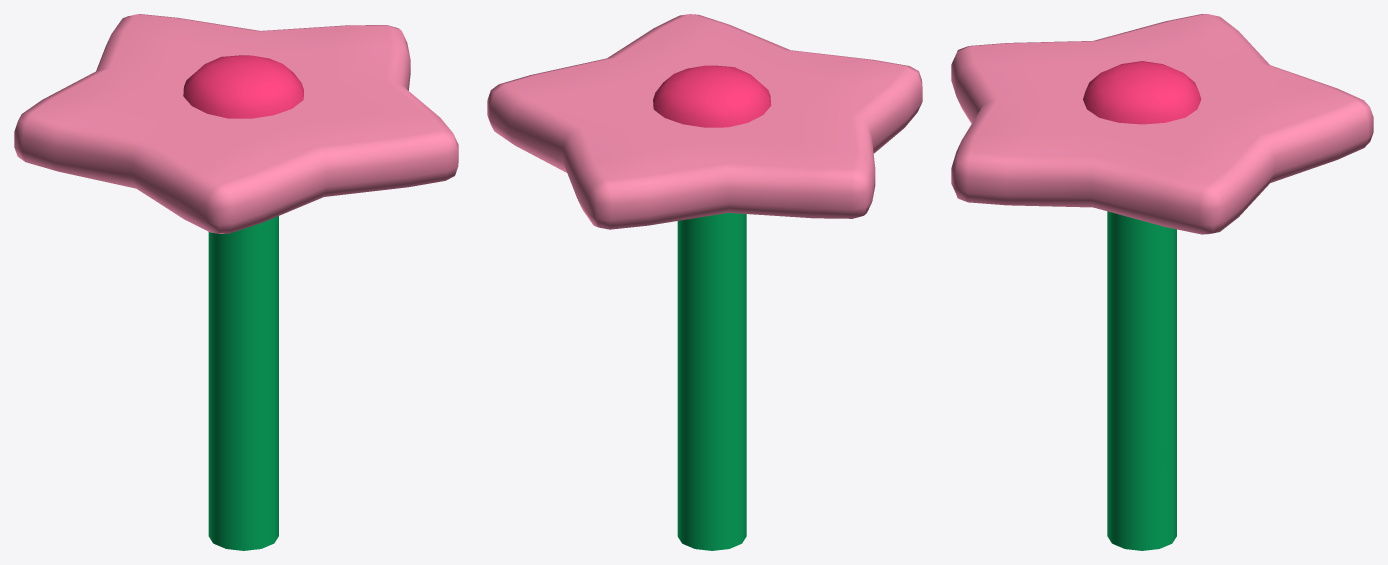
File: Farm_3_Flower_1.glb
3 views of the same model, side by side, from view 1: azimuth 30°, elevation 25°; view 2: azimuth 150°, elevation 25°; view 3: azimuth 270°, elevation 25° (orthographic). The views are drawn at different scales.
Parts seen in each view (by area): view 1: Farm_3_Flower_1; view 2: Farm_3_Flower_1; view 3: Farm_3_Flower_1.
Part boxes in pixels (box(x1,y1,x2,y2)): Farm_3_Flower_1: box(14, 14, 458, 550); Farm_3_Flower_1: box(487, 14, 922, 550); Farm_3_Flower_1: box(951, 14, 1373, 550).
Size of the model in its own units: 0.2137 by 0.2492 by 0.205.
1 material, 1 textured.
